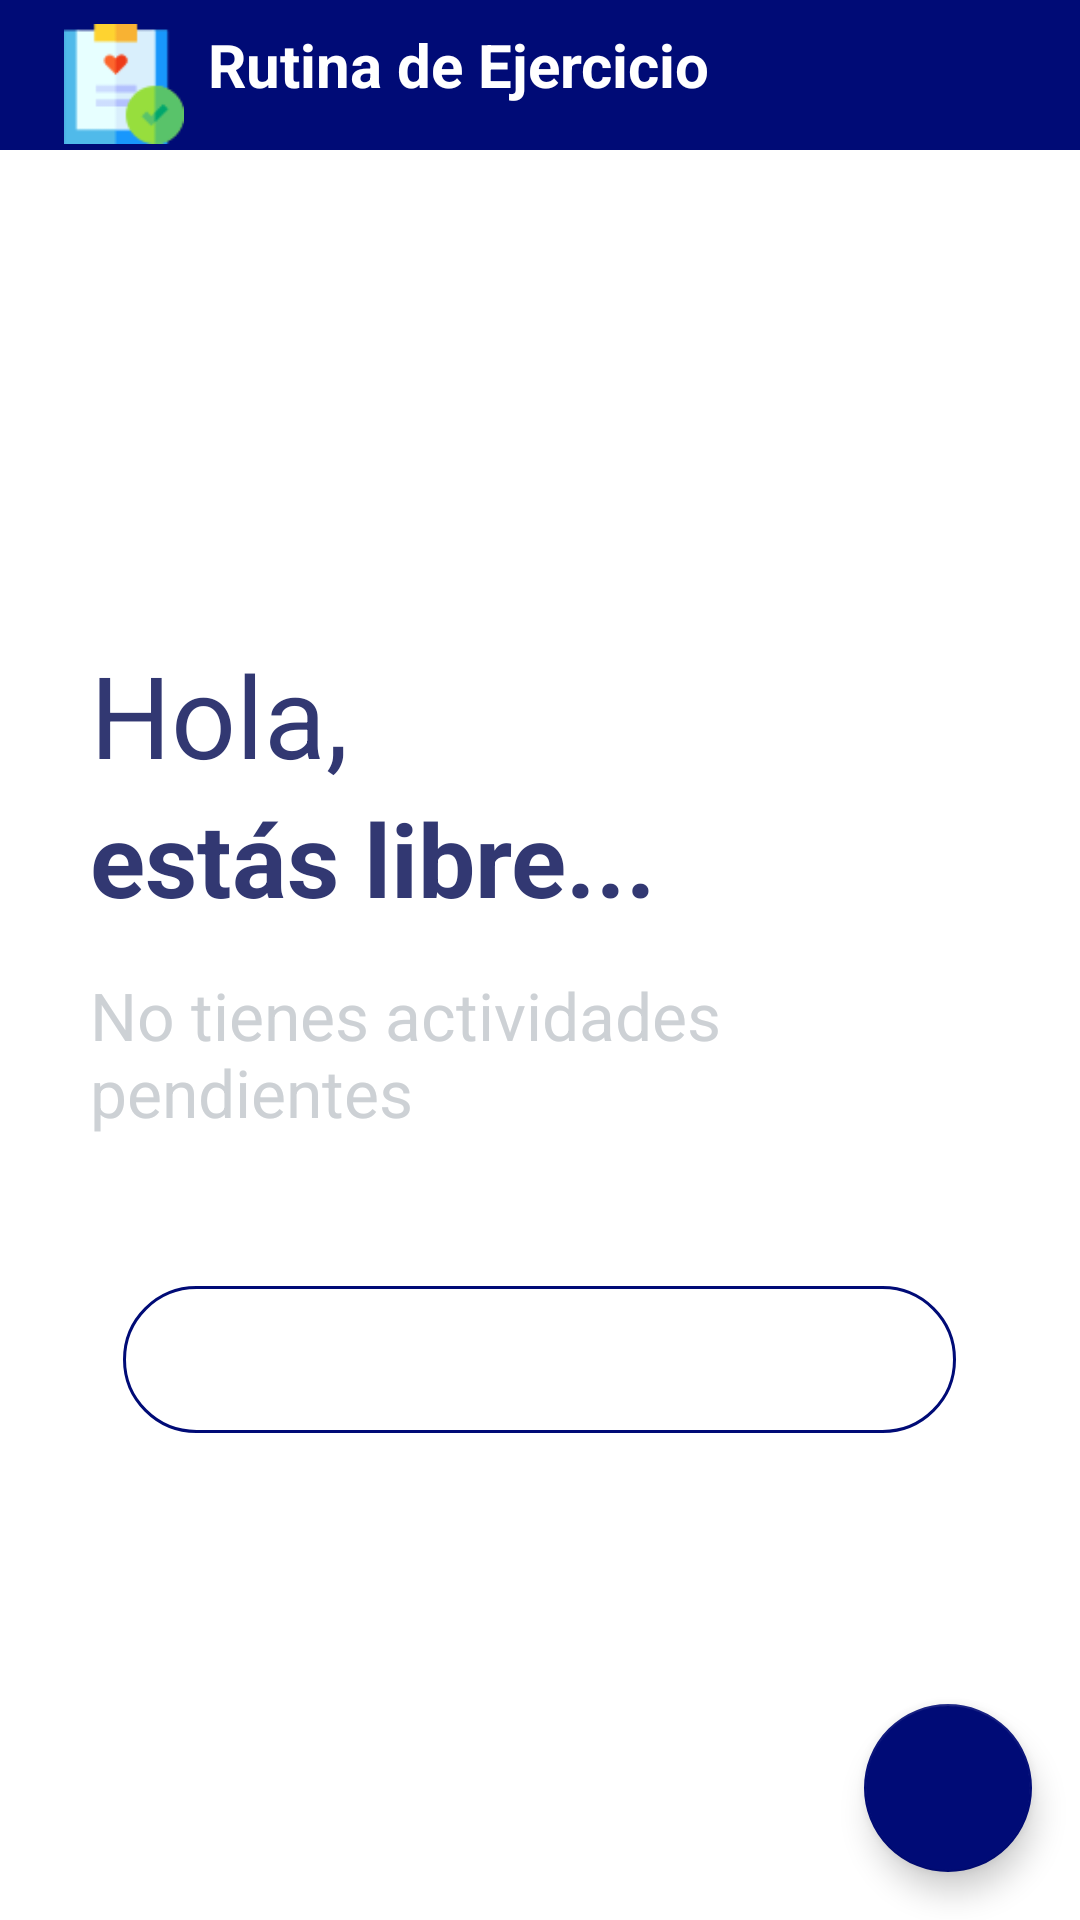

Screen size 1080 x 1920. Icon name, then its box in pixels as (x1, y1, x2, y2):
Chequeo: (64, 24, 184, 144)
